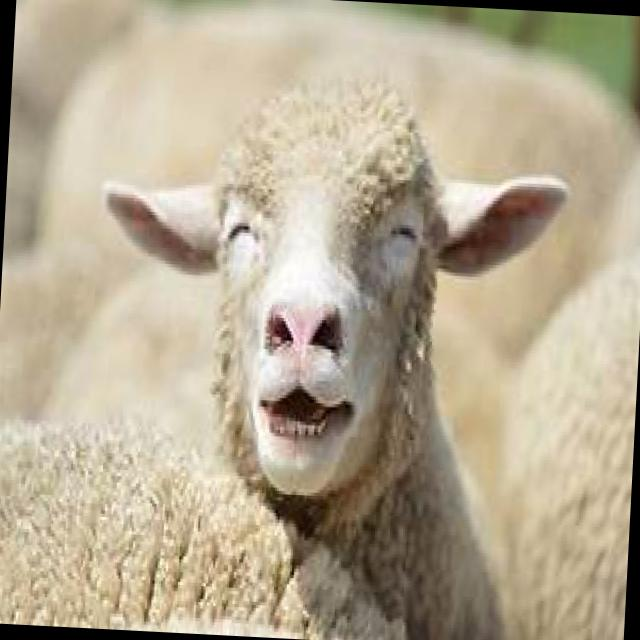animal: (0, 45, 571, 640)
